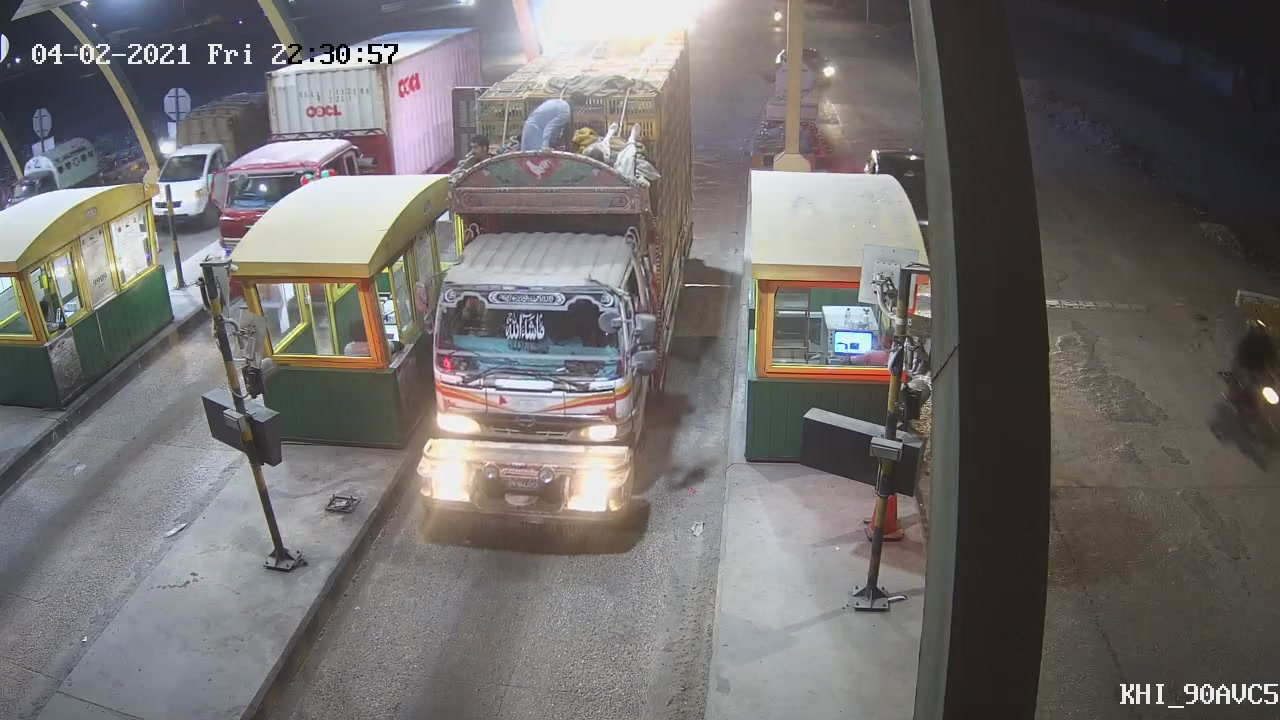F5: (408, 35, 715, 543)
